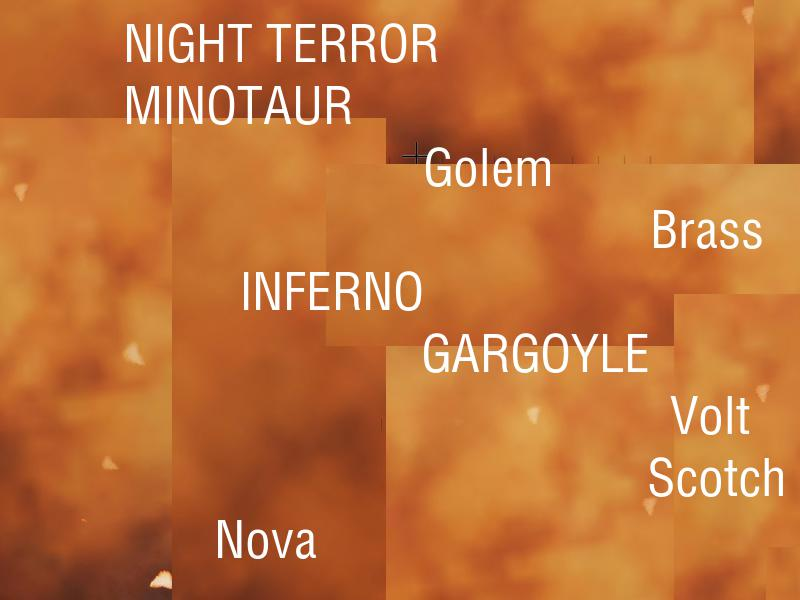line: (420, 333, 619, 372), (122, 85, 319, 124), (122, 23, 315, 62), (239, 271, 421, 310), (646, 457, 782, 496), (422, 147, 550, 186), (649, 210, 761, 248), (213, 520, 315, 558), (669, 396, 749, 434)
